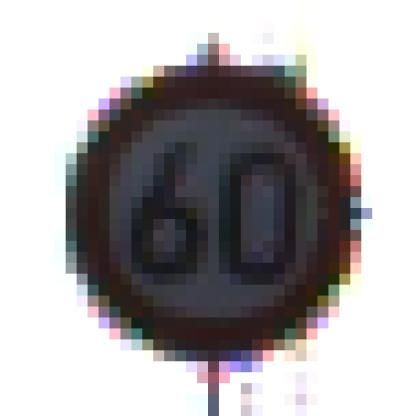Speed Limit 60: (70, 72, 351, 349)
